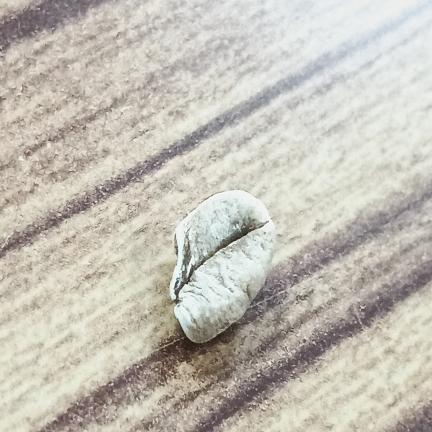cut: (170, 190, 275, 343)
